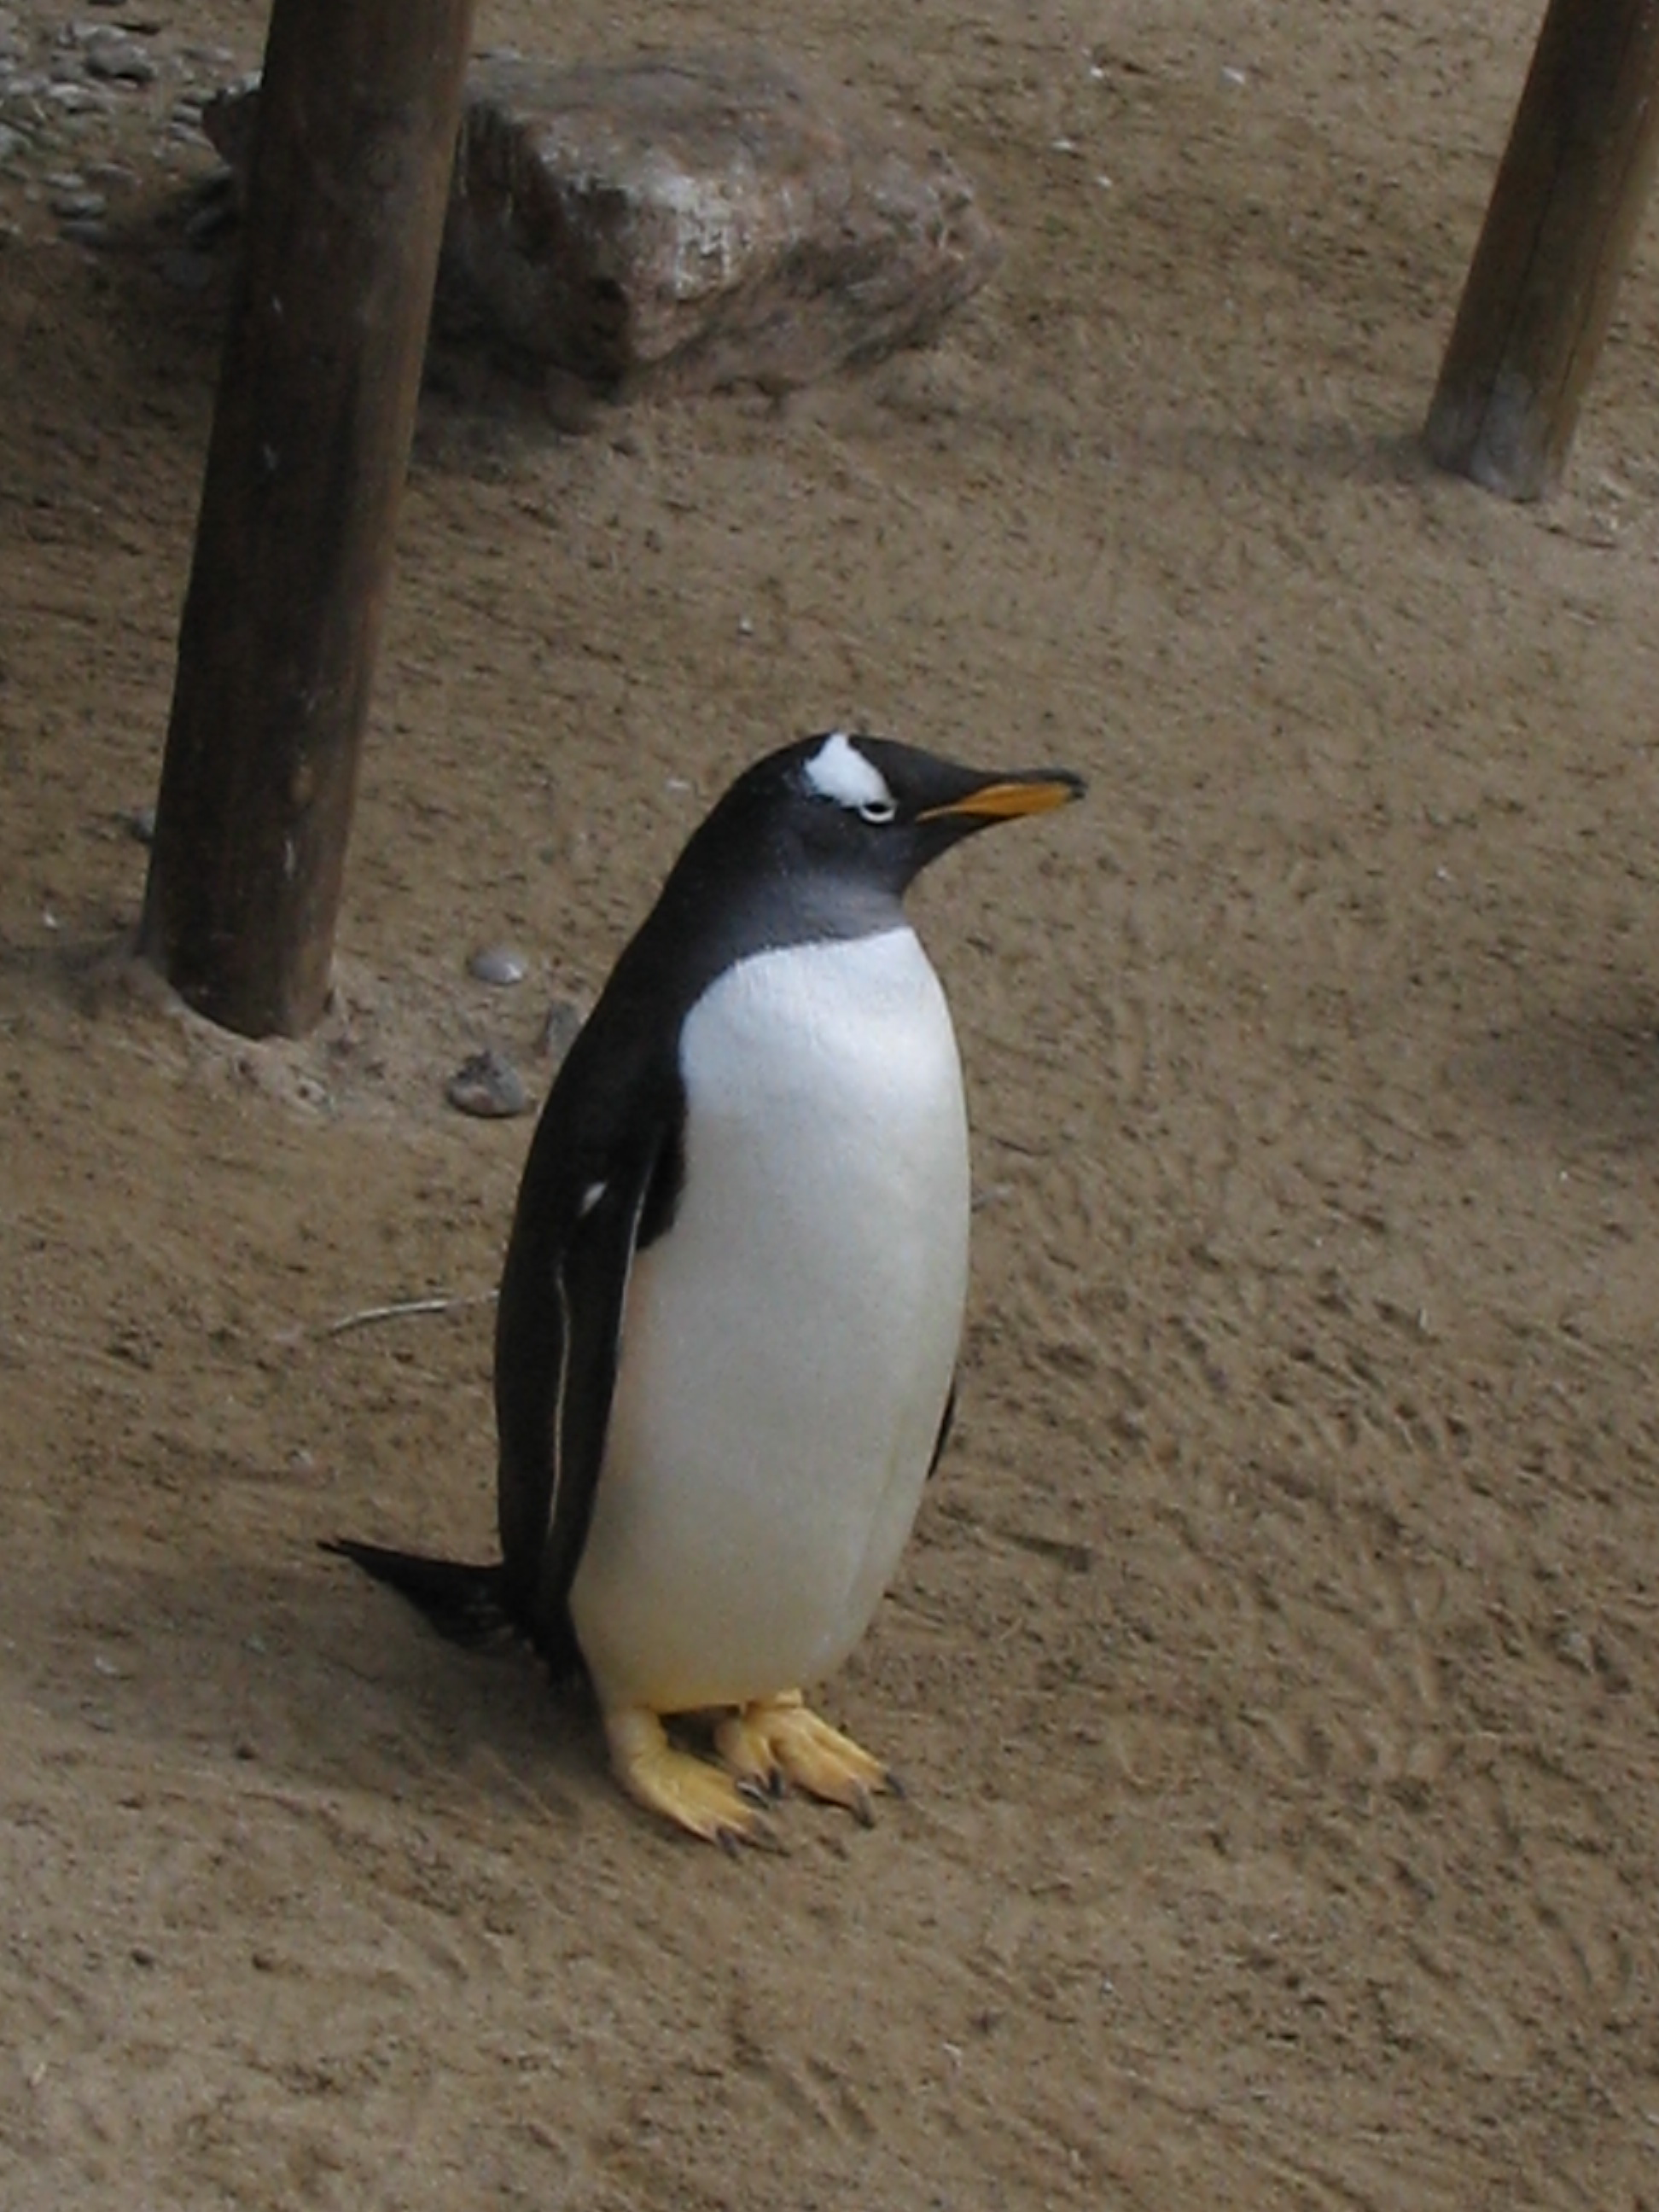penguin: (326, 730, 1122, 1871)
